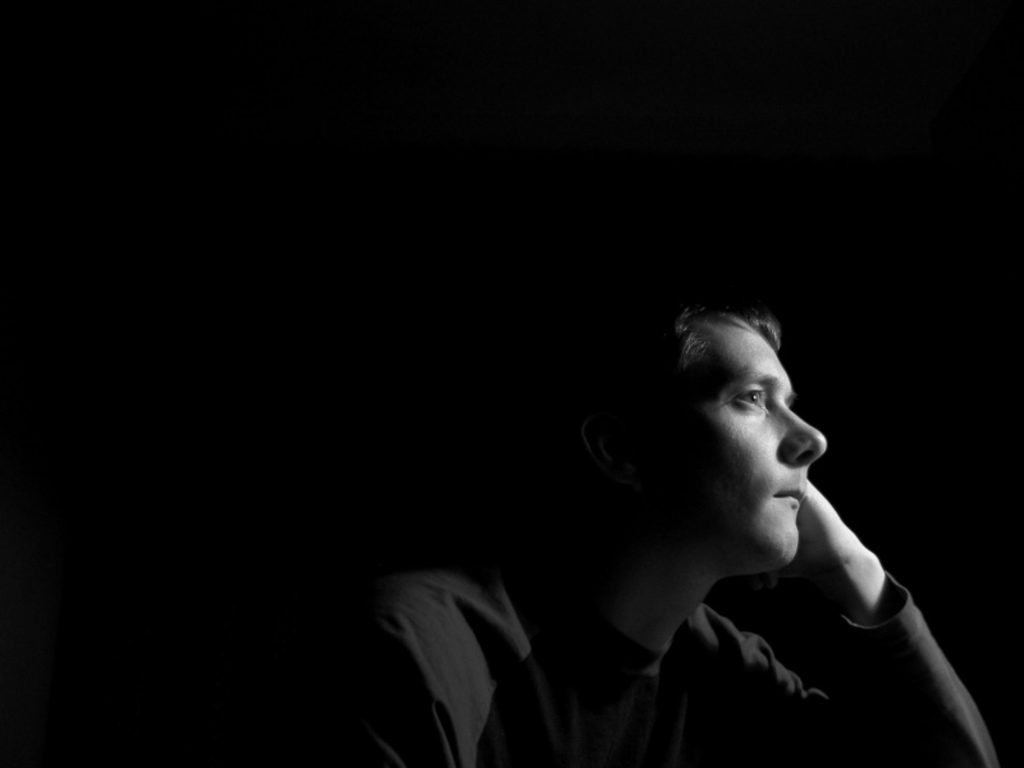face: (645, 306, 804, 560)
